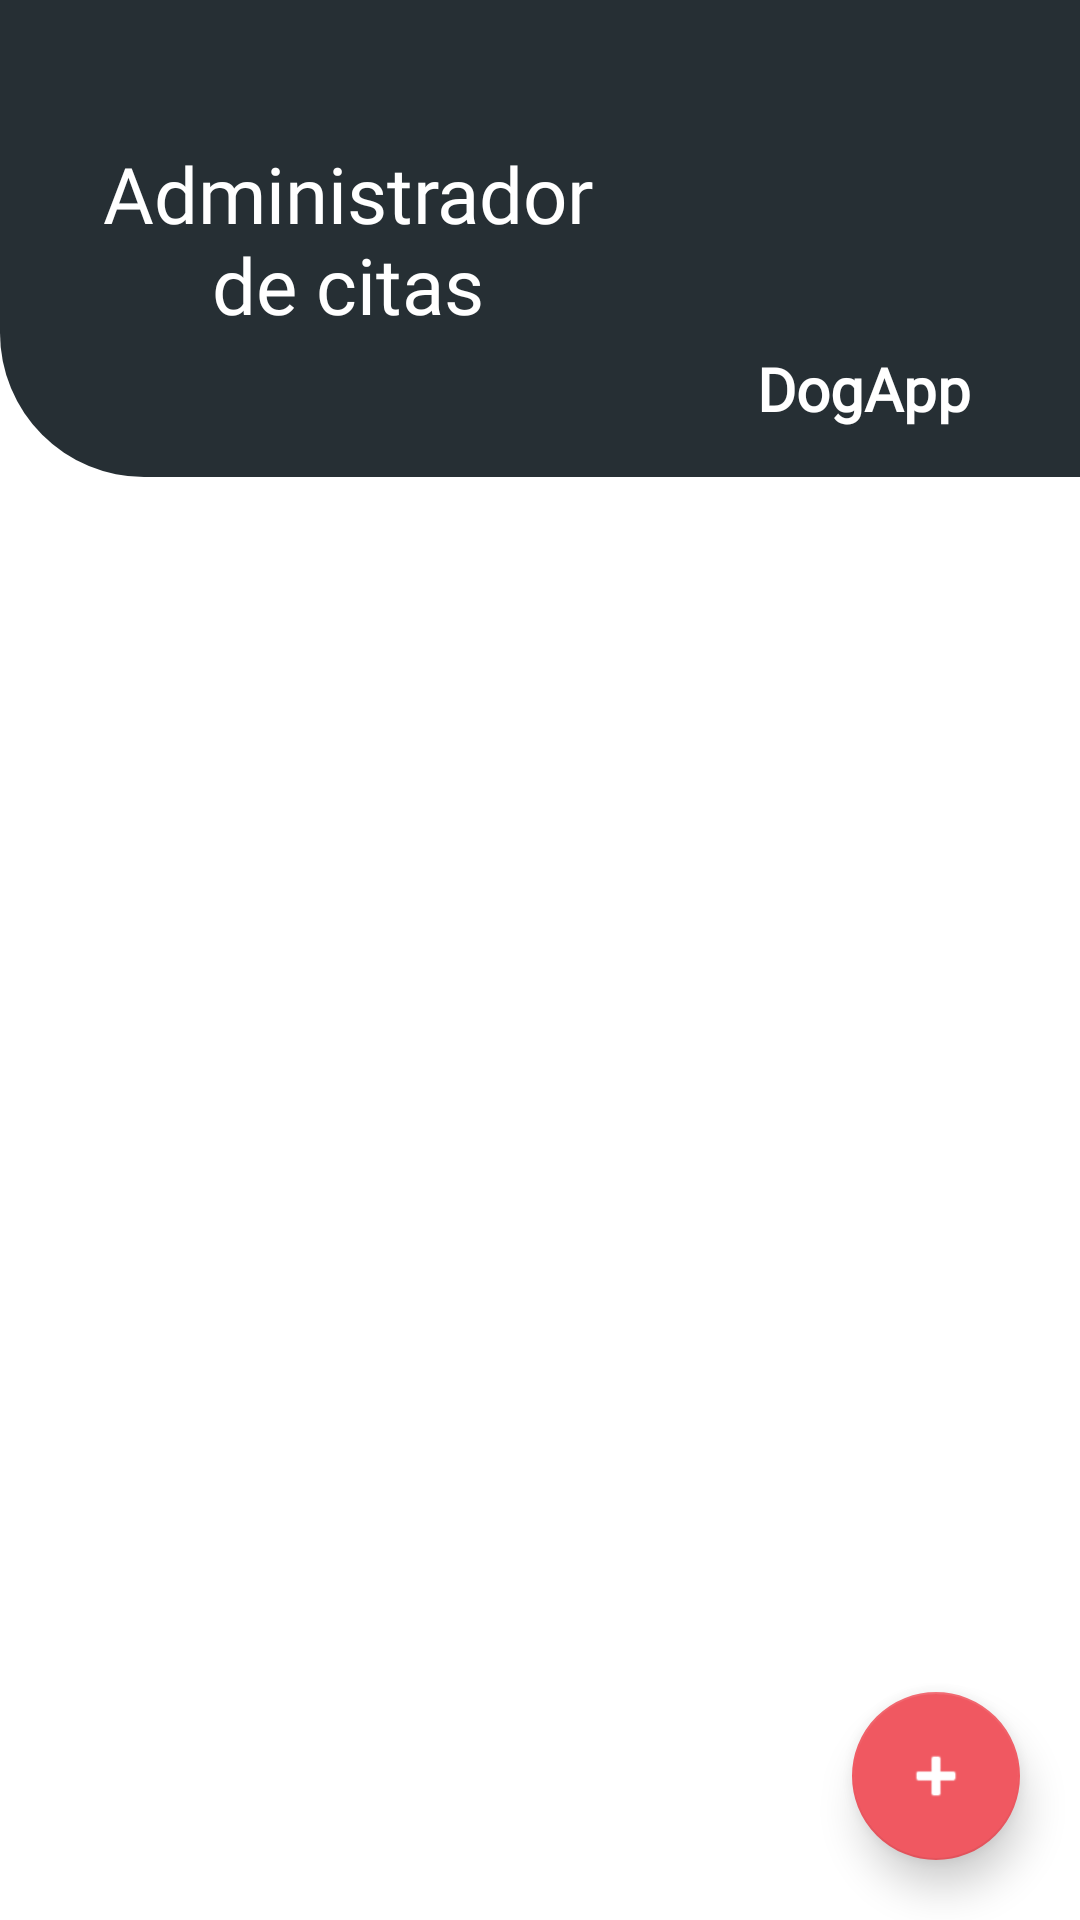

Screen size 1080x1920. Icon name, then its box in pixels as (x1,y1,x2,y2):
Agregar cita: (852,1692,1020,1860)
